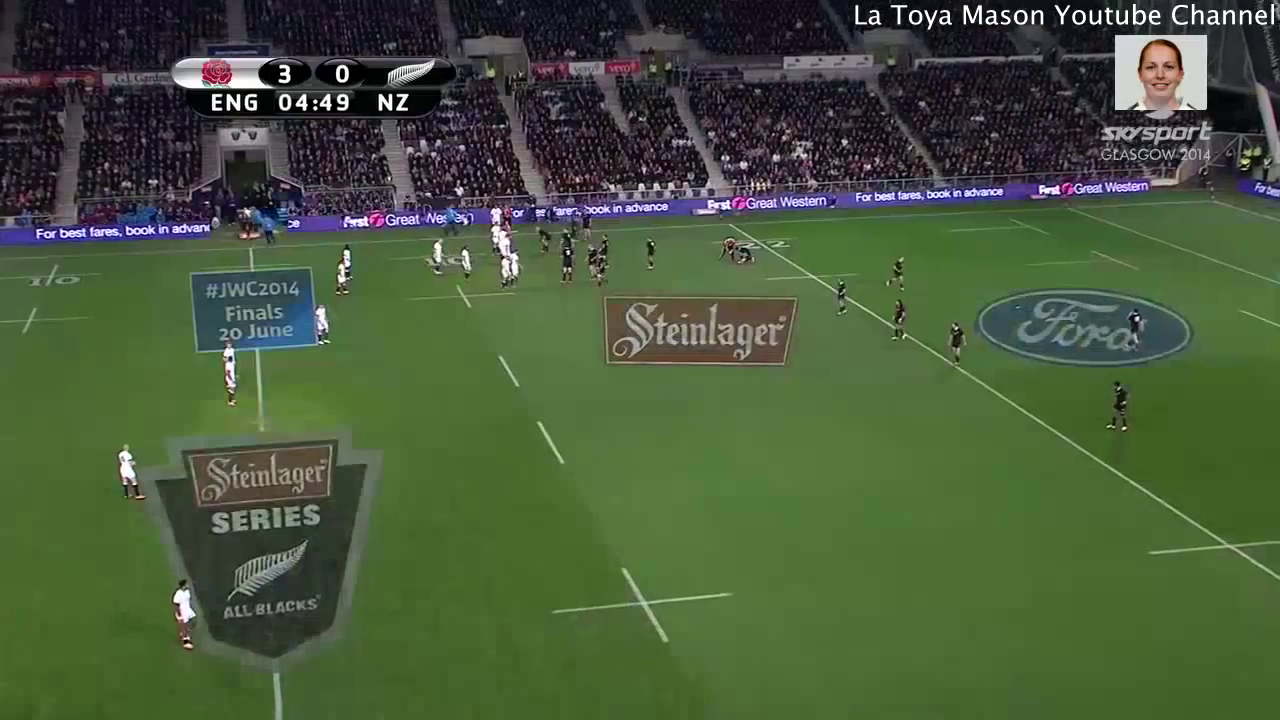10_metre: (543, 567, 737, 650), (408, 280, 515, 314), (1, 300, 98, 336), (386, 245, 486, 276), (1, 264, 104, 289)
player: (169, 572, 198, 657), (112, 435, 145, 506), (1105, 375, 1133, 440), (941, 316, 969, 372), (581, 242, 609, 290), (307, 303, 335, 349), (886, 296, 911, 345), (882, 255, 911, 292), (221, 355, 240, 405), (330, 257, 353, 298), (427, 236, 447, 279), (457, 244, 476, 286), (712, 231, 736, 262), (641, 235, 660, 274), (559, 244, 577, 285), (1127, 306, 1143, 352), (219, 334, 244, 362), (833, 277, 849, 320), (533, 226, 554, 258), (576, 211, 595, 244), (340, 239, 356, 278), (509, 244, 522, 290), (737, 243, 759, 266), (489, 218, 501, 259), (556, 226, 577, 249), (599, 232, 612, 267), (500, 255, 513, 289), (498, 232, 510, 254), (489, 205, 503, 219), (497, 224, 505, 245)
